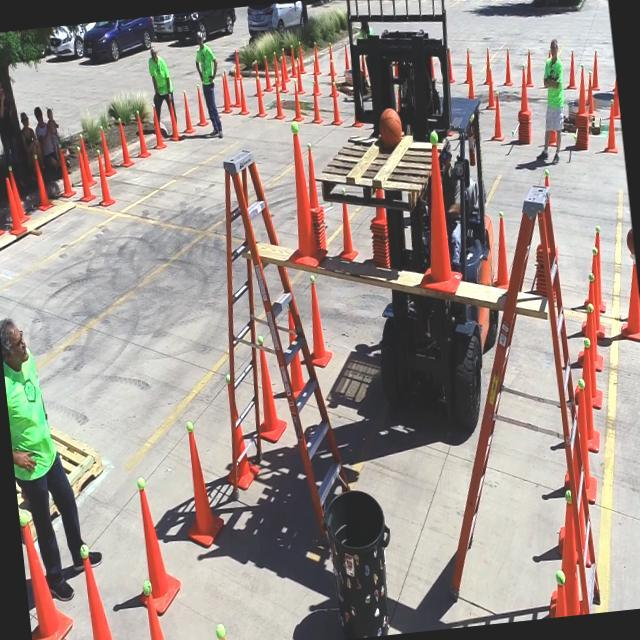person: (0, 315, 105, 581), (534, 35, 574, 160), (190, 27, 223, 137), (144, 47, 174, 105), (0, 77, 18, 160)
